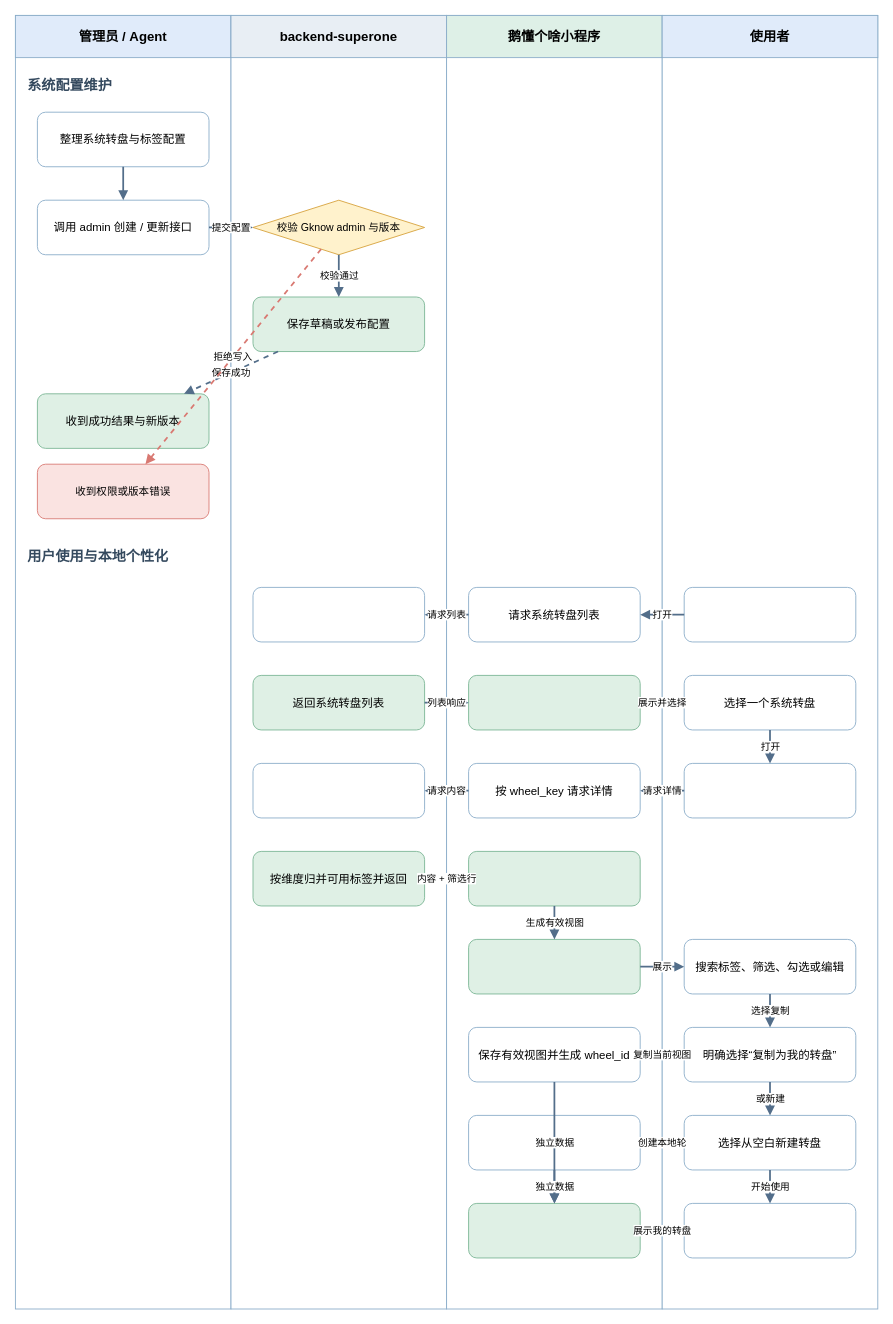
Some shapes in this 893 by 1324 pixel diagram are drawn without their labels. The box of each missing label's shape, as (x1, y1, x2, y2) in pixels:
创建本地空白自定义转盘: (468, 1115, 640, 1170)
只读写本地自定义数据: (468, 1203, 640, 1258)
后续编辑并使用我的转盘: (683, 1203, 856, 1258)
展示系统基线 + 个人操作结果: (468, 939, 640, 994)
展示系统转盘卡片: (468, 675, 640, 730)
打开系统转盘列表: (683, 587, 856, 642)
打开选中的系统转盘: (683, 763, 856, 818)
查询已发布转盘摘要: (252, 587, 425, 642)
读取本地日志并依序重放: (468, 851, 640, 906)
读取系统配置与选项: (252, 763, 425, 818)
